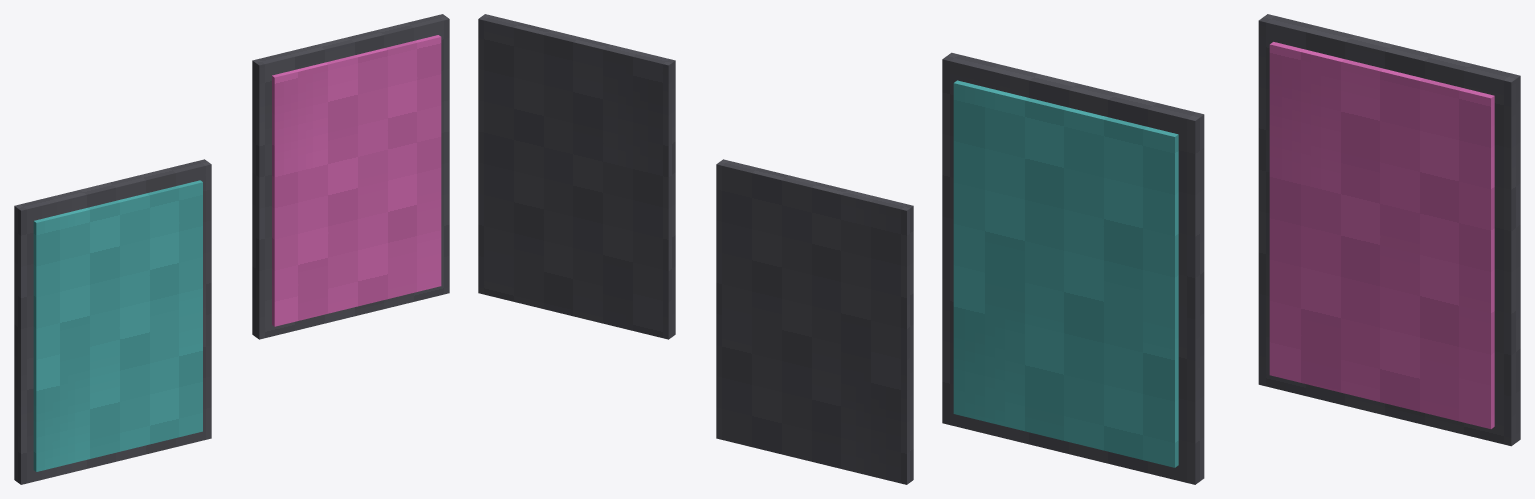
File: retro-arcade-and-mall-1989-poster-wall-frames-3a356cde__15562.glb
The picture shows the model from 3 angles, left to right: view 1: azimuth 30°, elevation 25°; view 2: azimuth 150°, elevation 25°; view 3: azimuth 330°, elevation 25°; orthographic projection. The views are drawn at different scales.
Parts seen in each view (by area): view 1: poster-wall-frames; view 2: poster-wall-frames; view 3: poster-wall-frames.
Part boxes in pixels (x1,y1,x2,y2): poster-wall-frames: (14,14,449,484); poster-wall-frames: (478,14,913,484); poster-wall-frames: (942,14,1520,484).
Bounding box in the file's own units: 1.8 × 1.45 × 0.0751.
3 materials, 3 textured.
